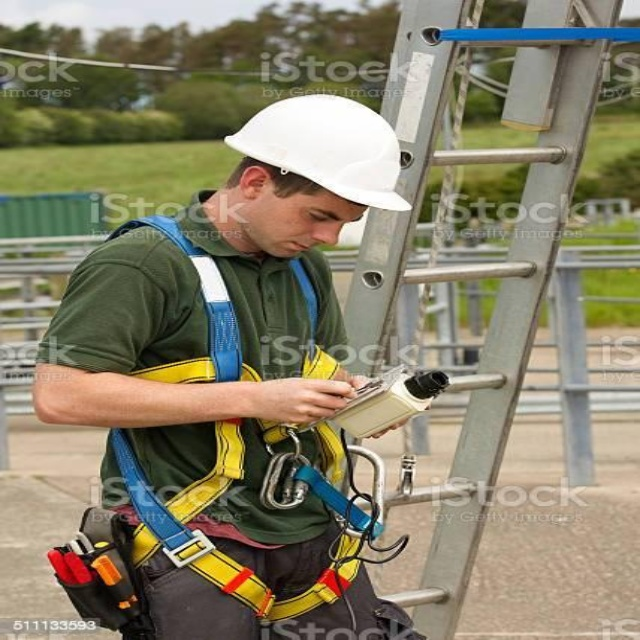Arnes_seguridad: (35, 214, 389, 632)
